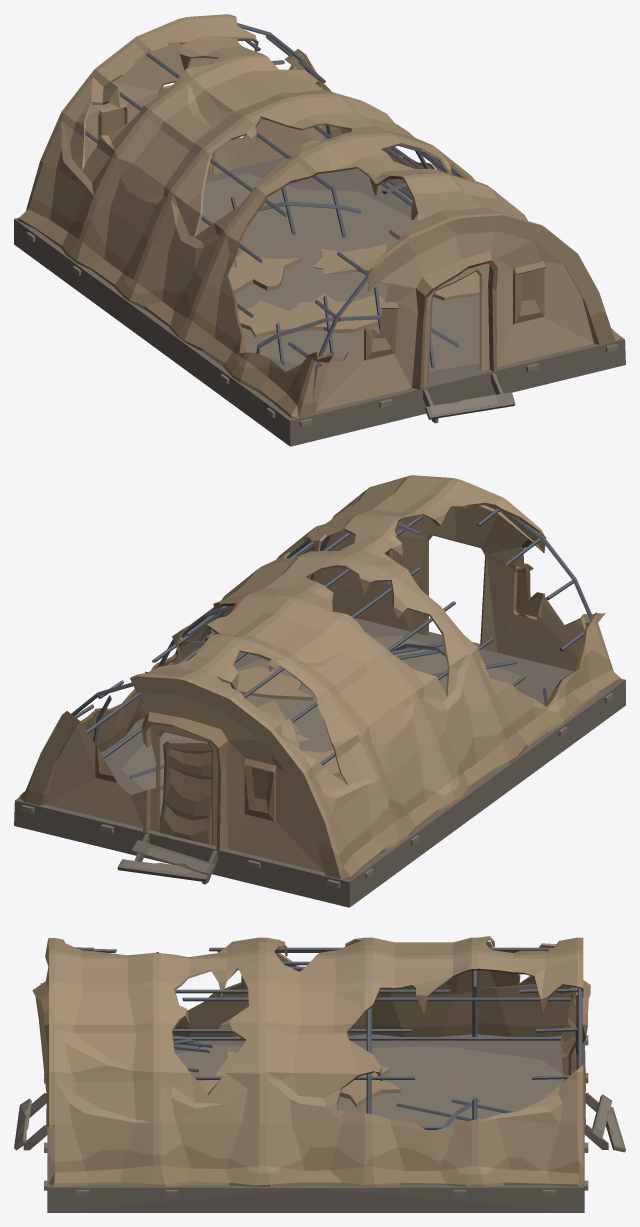
File: SM_Bld_Tent_Destroyed_01.fbx
3 views of the same model, one above another, from view 1: azimuth 30°, elevation 25°; view 2: azimuth 150°, elevation 25°; view 3: azimuth 270°, elevation 25° (orthographic). The views are drawn at different scales.
Parts seen in each view (by area): view 1: SM_Bld_Tent_Destroyed_01; view 2: SM_Bld_Tent_Destroyed_01; view 3: SM_Bld_Tent_Destroyed_01.
Boxes of the visible parts, box(x1,y1,x2,y2) form: SM_Bld_Tent_Destroyed_01: box(14, 14, 625, 446); SM_Bld_Tent_Destroyed_01: box(14, 475, 625, 907); SM_Bld_Tent_Destroyed_01: box(14, 936, 625, 1212).
Bounding box in the file's own units: 780 × 407 × 1248.
